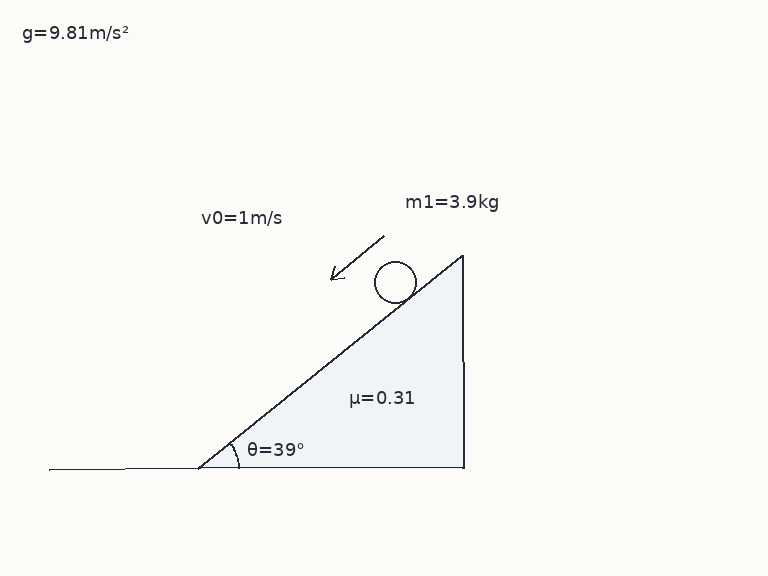ball: (372, 259, 418, 305)
ramp: (197, 253, 464, 470)
